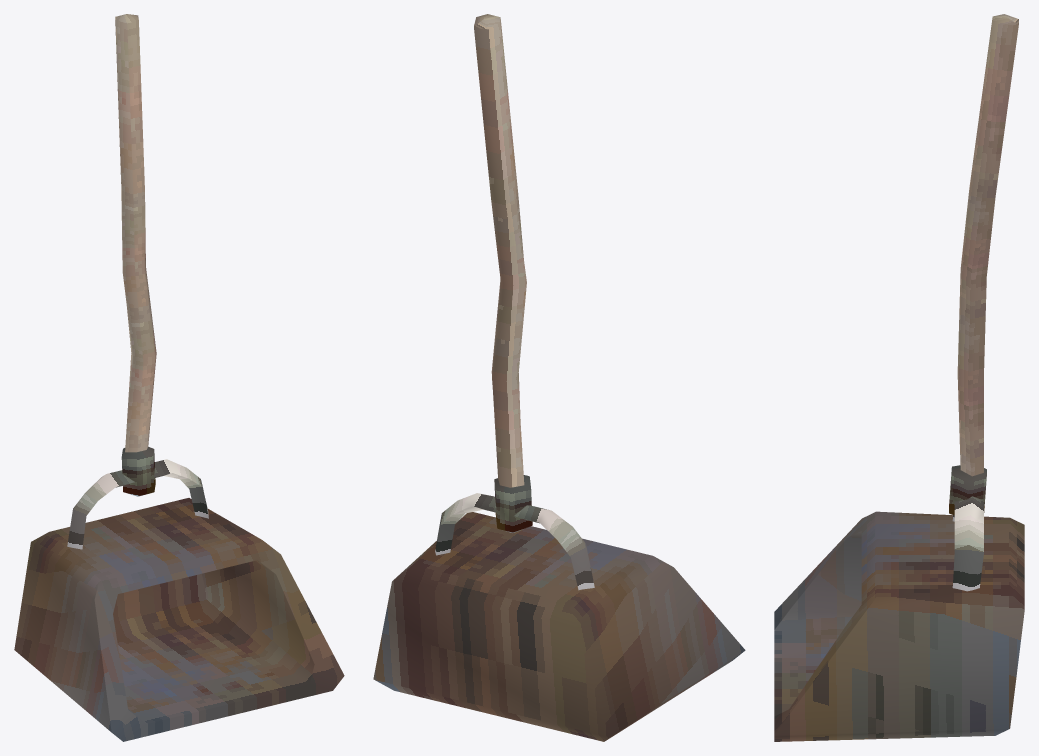
Rendered from tili5.glb.
3 renders of one model, left to right at view 1: azimuth 30°, elevation 25°; view 2: azimuth 150°, elevation 25°; view 3: azimuth 270°, elevation 25°, orthographic. The views are drawn at different scales.
Visible parts, largest first — view 1: tili5; view 2: tili5; view 3: tili5.
Boxes of the visible parts, left/top/right/bottom form: tili5: left=14, top=14, right=344, bottom=741; tili5: left=373, top=14, right=745, bottom=741; tili5: left=774, top=14, right=1024, bottom=741.
Bounding box in the file's own units: 100 × 255 × 86.
3 materials, 3 textured.
